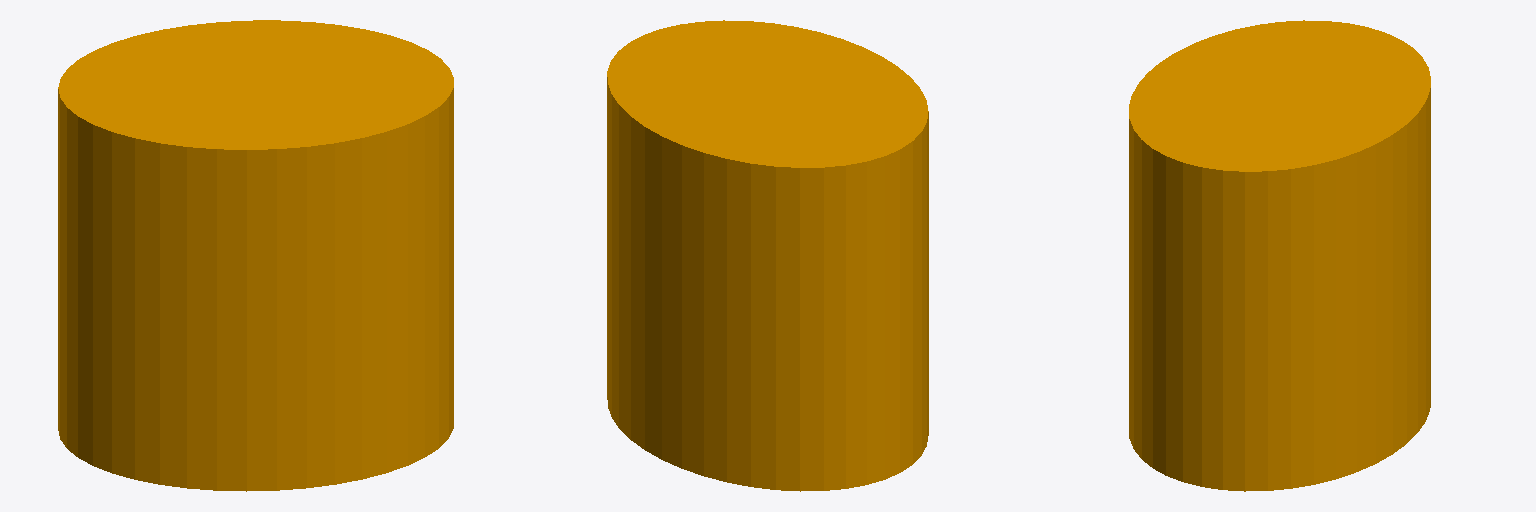
URDF robot description (object):
<?xml version="1.0"?>
<robot name="object">
  <link name="object">
    <visual>
      <origin xyz="0 0 0"/>
      <geometry>
        <mesh filename="meshes/generated/col_045.obj" scale="0.03 0.03 0.03"/>
      </geometry>
    </visual>
    <collision>
      <origin xyz="0 0 0"/>
      <geometry>
        <mesh filename="meshes/generated/col_045.obj" scale="0.03 0.03 0.03"/>
      </geometry>
    </collision>
    <inertial>
      <density value="1000.0"/>
    </inertial>
  </link>
</robot>

--- What the picture shows (computed from the rendered views, not written in the file) ---
The picture shows the robot from 3 angles, left to right: view 1: azimuth 30°, elevation 25°; view 2: azimuth 150°, elevation 25°; view 3: azimuth 270°, elevation 25°; orthographic projection.
Model object with 1 links and 0 joints (none), rooted at object, posed every joint at zero.
Visible links, largest first — view 1: object; view 2: object; view 3: object.
Boxes of the visible links, <box> form: object: <box>58,20,453,491</box>; object: <box>607,20,928,491</box>; object: <box>1129,20,1430,491</box>.
Bounding box of the posed robot: 0.0609 × 0.0515 × 0.06 m (x, y, z).
Meshes: 1 distinct files referenced, 1 mesh visuals loaded (1 OBJ).
